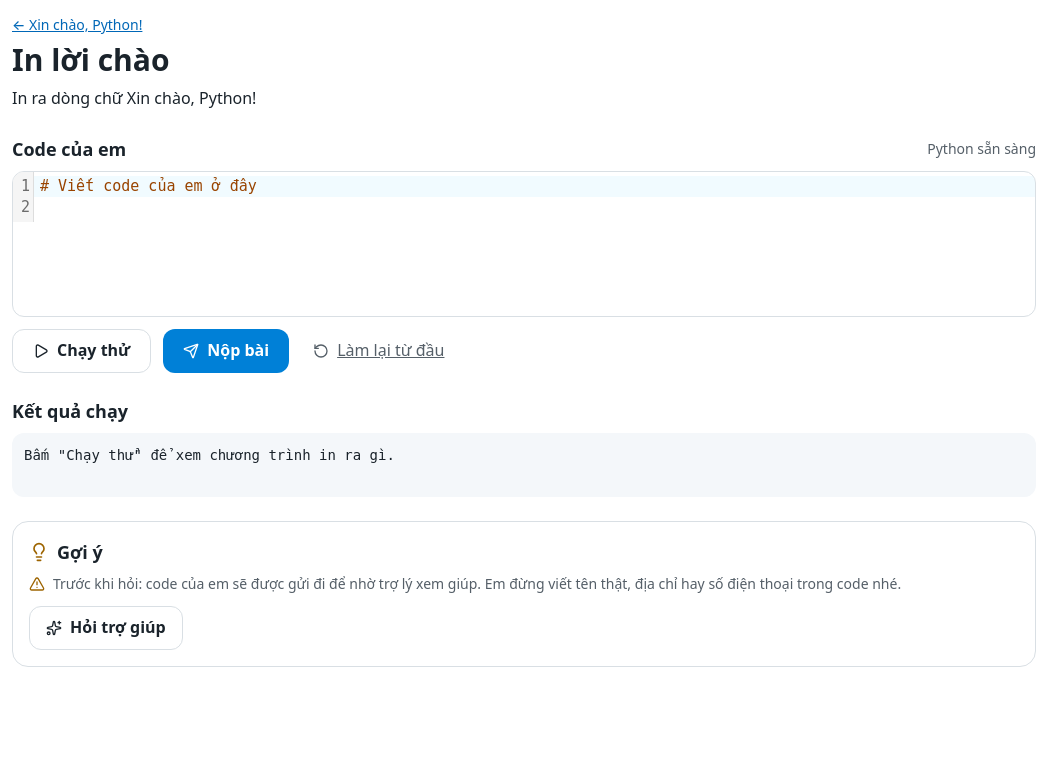
Test: ExercisePage › test chưa đạt thì hiện câu tiếng Việt của người viết bài
This screenshot has width=1048, height=773.
Click the button "Nộp bài" at (226, 351), box [163,329,289,373]
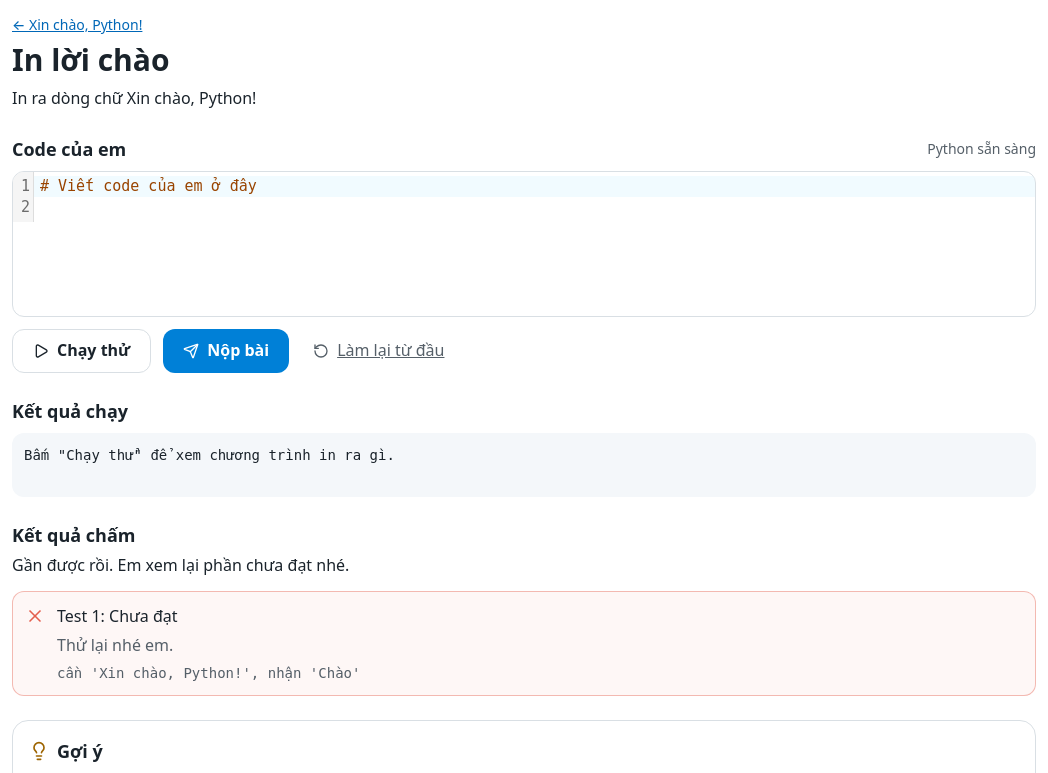
Result: the text "Thử lại nhé em." is shown at [57,634,173,656]
Result: the text "Gần được rồi. Em xem lại phần chưa đạt nhé." is shown at [12,554,349,576]
